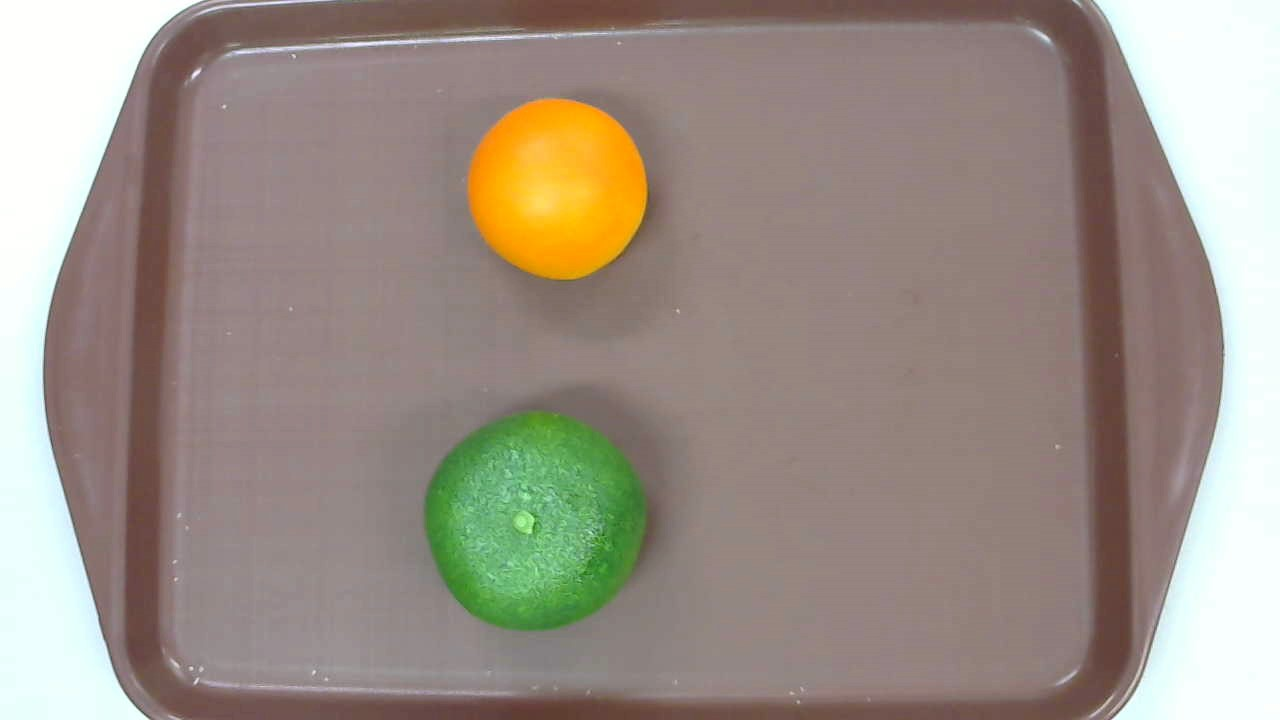bun: (466, 97, 648, 280)
green orange: (426, 408, 646, 631)
